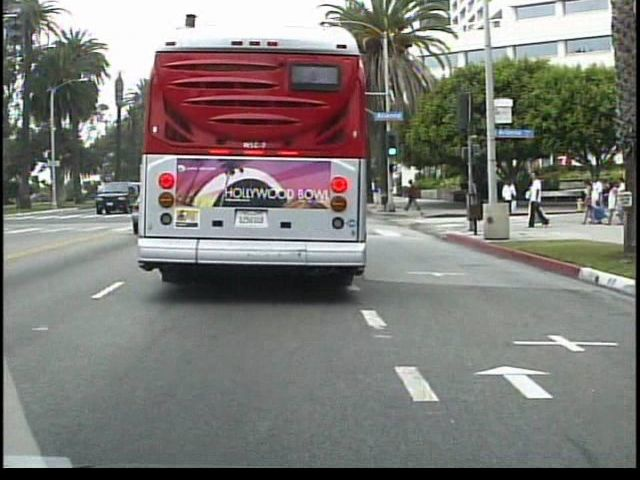person: (527, 167, 548, 228), (405, 177, 426, 217), (465, 175, 483, 216), (500, 176, 521, 204)
